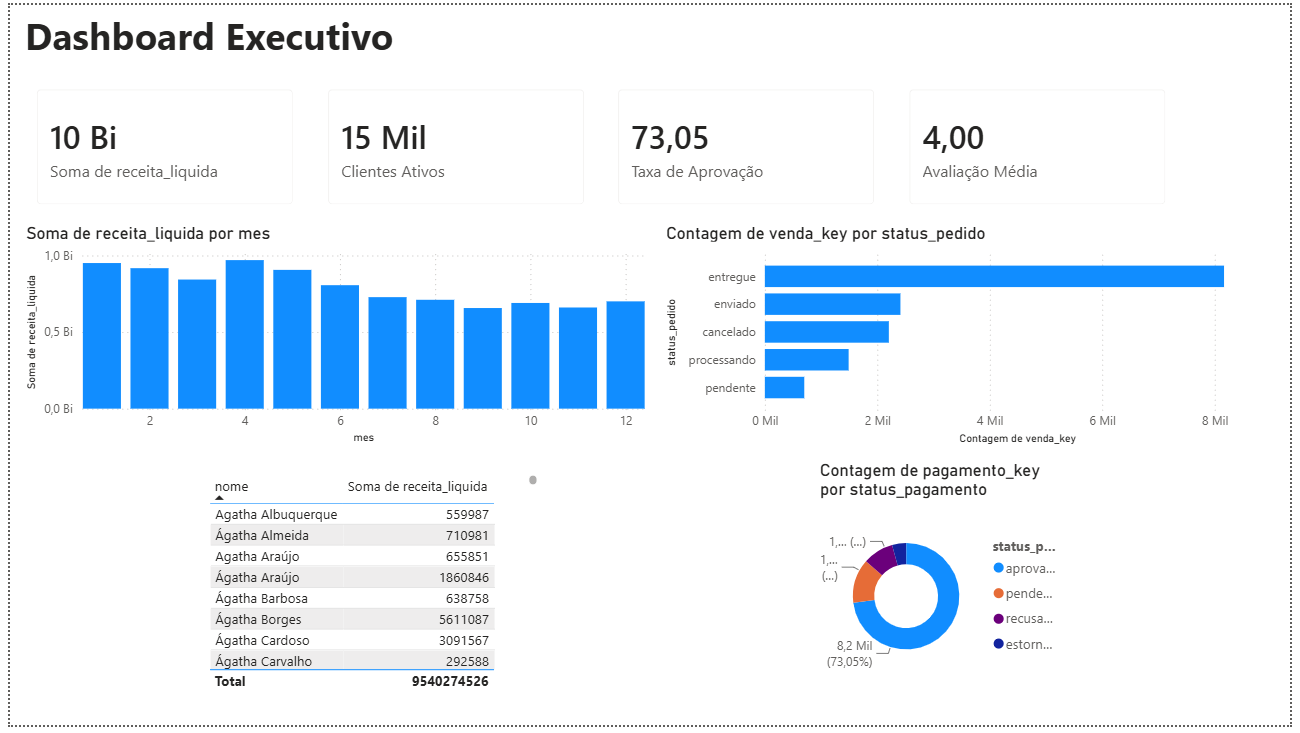

What the dashboard file says about the page in this screenshot:
{"tool":"powerbi","page":{"name":"Dashboard Executivo","canvas":[1280,720],"ordinal":0},"visuals":[{"type":"textbox","box":[10.3,0,467.7,67.1],"z":0},{"type":"cardVisual","fields":{"Data":["Sum(gold_fato_vendas.receita_liquida)"]},"box":[10.3,67.1,290.6,149.6],"z":1000},{"type":"cardVisual","fields":{"Data":["gold_dim_cliente.Clientes Ativos","gold_dim_cliente.Clientes Ativos"]},"box":[300.9,67.1,290.6,149.6],"z":2000},{"type":"cardVisual","fields":{"Data":["gold_dim_cliente.Taxa de Aprovação"]},"box":[591.5,67.1,290.6,149.6],"z":3000},{"type":"cardVisual","fields":{"Data":["gold_dim_cliente.Avaliação Média"]},"box":[882.1,67.1,290.6,149.6],"z":4000},{"type":"columnChart","fields":{"Y":["Sum(gold_fato_vendas.receita_liquida)"],"Category":["gold_dim_tempo.mes"]},"box":[10.7,217.3,628.6,226.2],"z":4001},{"type":"barChart","fields":{"Category":["gold_fato_vendas.status_pedido"],"Y":["Count(gold_fato_vendas.venda_key)"]},"box":[651.1,217.8,628.9,226.7],"z":4002},{"type":"tableEx","fields":{"Values":["gold_dim_cliente.nome","Sum(gold_fato_vendas.receita_liquida)"]},"box":[193.3,464.4,338.9,225.6],"z":4003},{"type":"donutChart","fields":{"Category":["gold_fato_pagamentos.status_pagamento"],"Y":["CountNonNull(gold_fato_pagamentos.pagamento_key)"]},"box":[805.6,455.6,256.7,234.4],"z":4004}]}

Visuals, with their boxes in screenshot pixels (x1, y1, x2, y2), scaled from the page's 1280x720 canvas onto the 1300x733 screenshot:
textbox: (left=10, top=0, right=485, bottom=68)
cardVisual - Sum(gold_fato_vendas.receita_liquida): (left=10, top=68, right=306, bottom=221)
cardVisual - gold_dim_cliente.Clientes Ativos x gold_dim_cliente.Clientes Ativos: (left=306, top=68, right=601, bottom=221)
cardVisual - gold_dim_cliente.Taxa de Aprovação: (left=601, top=68, right=896, bottom=221)
cardVisual - gold_dim_cliente.Avaliação Média: (left=896, top=68, right=1191, bottom=221)
columnChart - Sum(gold_fato_vendas.receita_liquida) x gold_dim_tempo.mes: (left=11, top=221, right=649, bottom=452)
barChart - gold_fato_vendas.status_pedido x Count(gold_fato_vendas.venda_key): (left=661, top=222, right=1299, bottom=453)
tableEx - gold_dim_cliente.nome x Sum(gold_fato_vendas.receita_liquida): (left=196, top=473, right=541, bottom=702)
donutChart - gold_fato_pagamentos.status_pagamento x CountNonNull(gold_fato_pagamentos.pagamento_key): (left=818, top=464, right=1079, bottom=702)
